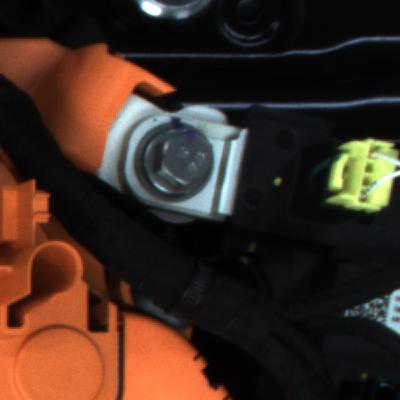nut_b: (130, 114, 220, 206)
